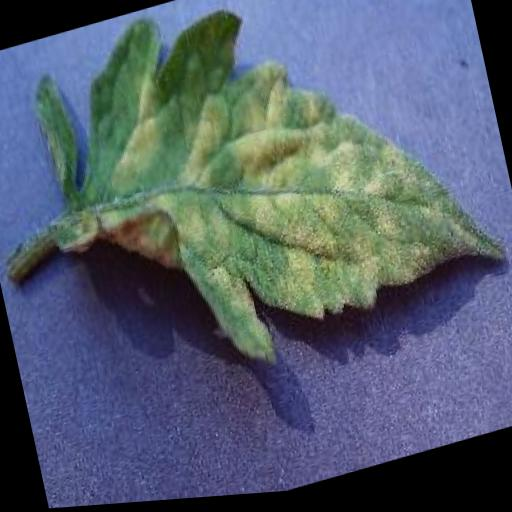Leaf Mold: (20, 0, 512, 408)
